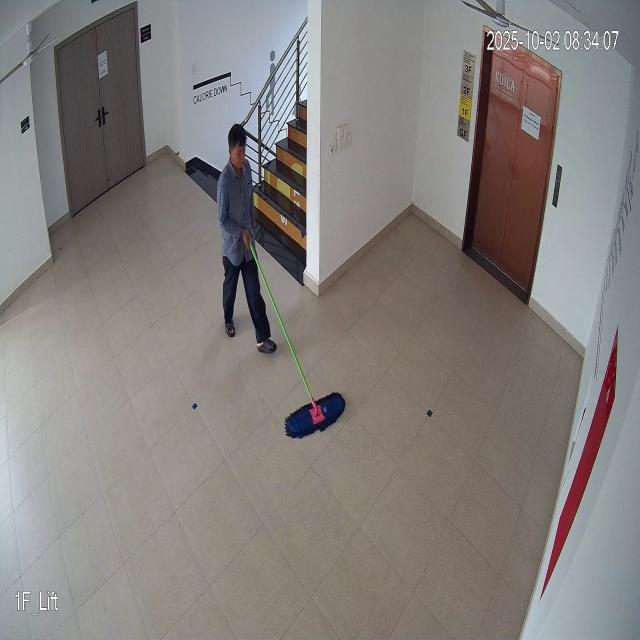face: (223, 120, 250, 181)
